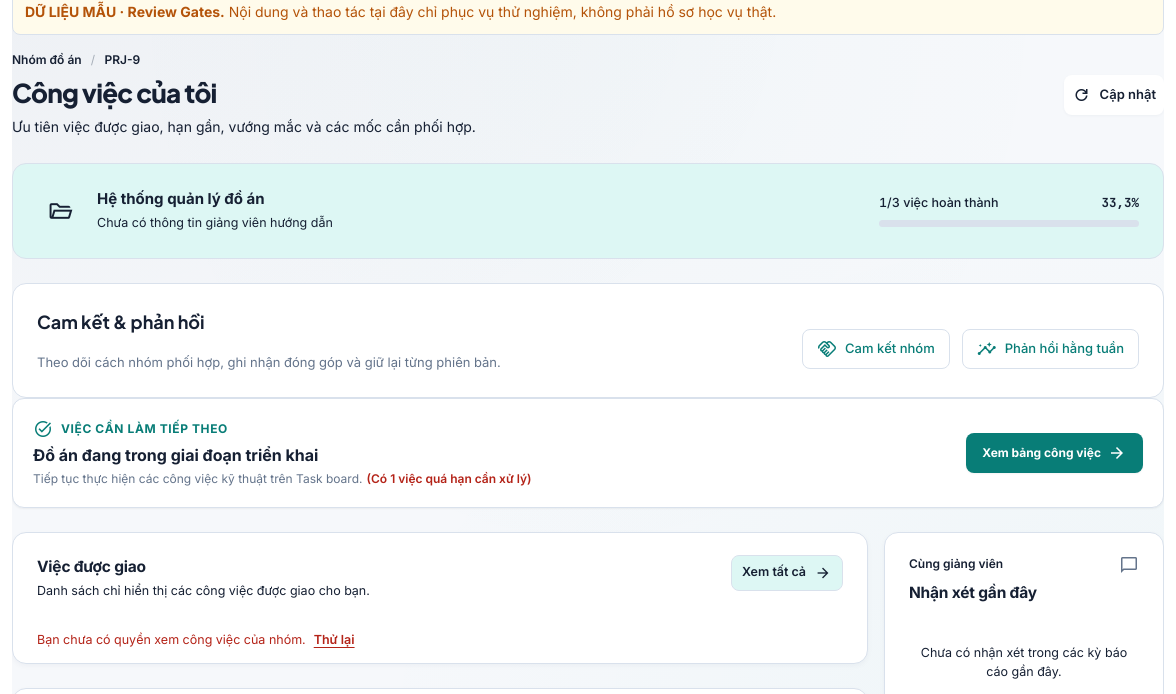
Test case: collaboration workspace API integration › shows permission failures without fake zero progress and keeps other sections usable
Expected: the text "1/3 việc hoàn thành" is shown, 879,194 -> 998,212
Step 1. Click the button "Thử lại" → click(334, 640), box 314,631 -> 355,650
(page scrolled)
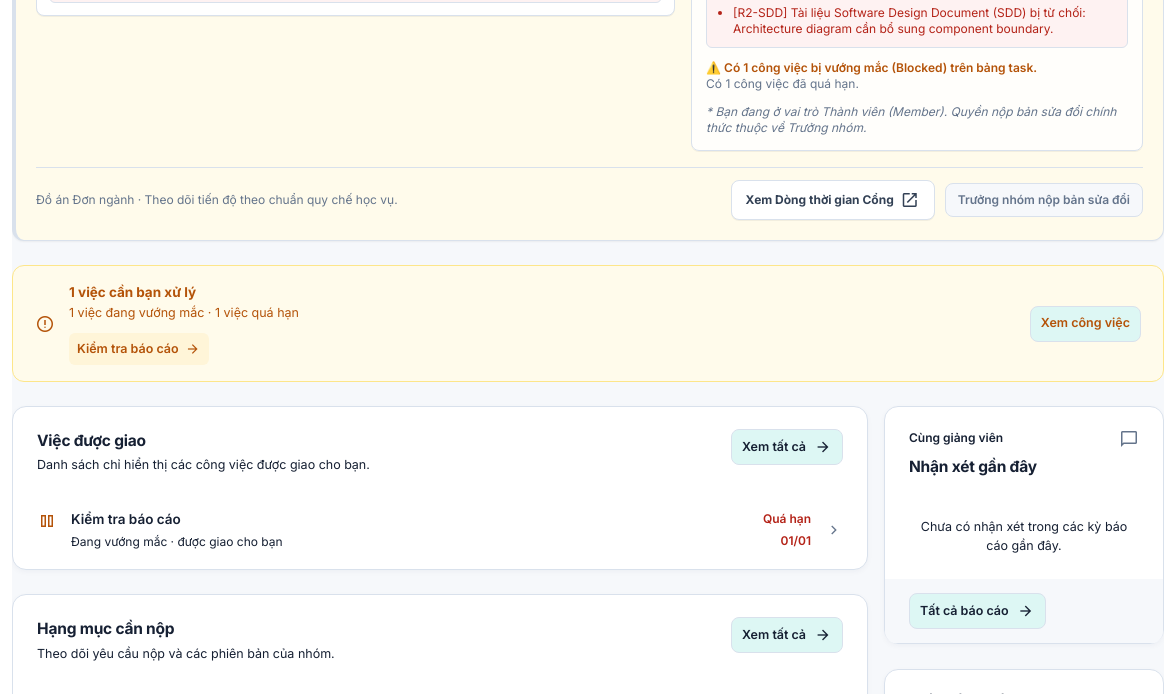
Result: the link "Kiểm tra báo cáo" is shown at 69,333 -> 209,365
